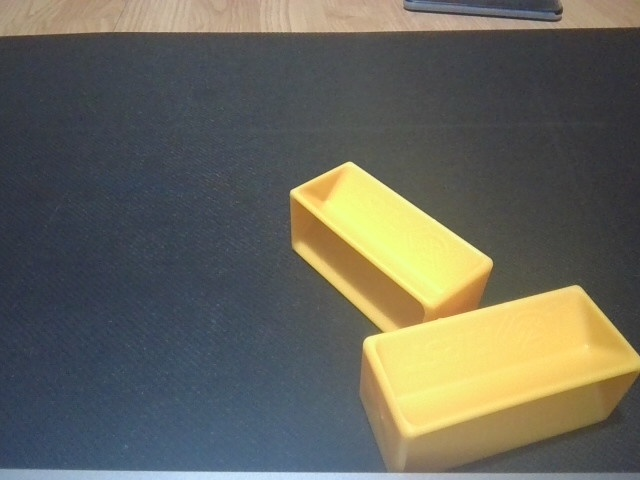YellowSample: (355, 282, 640, 471), (284, 155, 498, 342)
